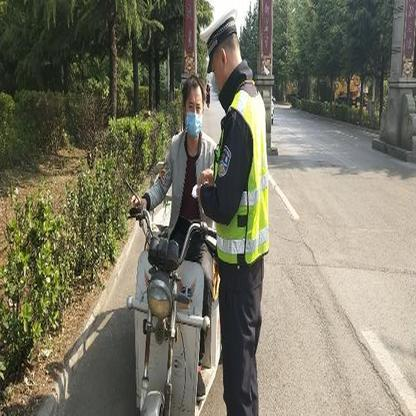target: (124, 74, 225, 412)
